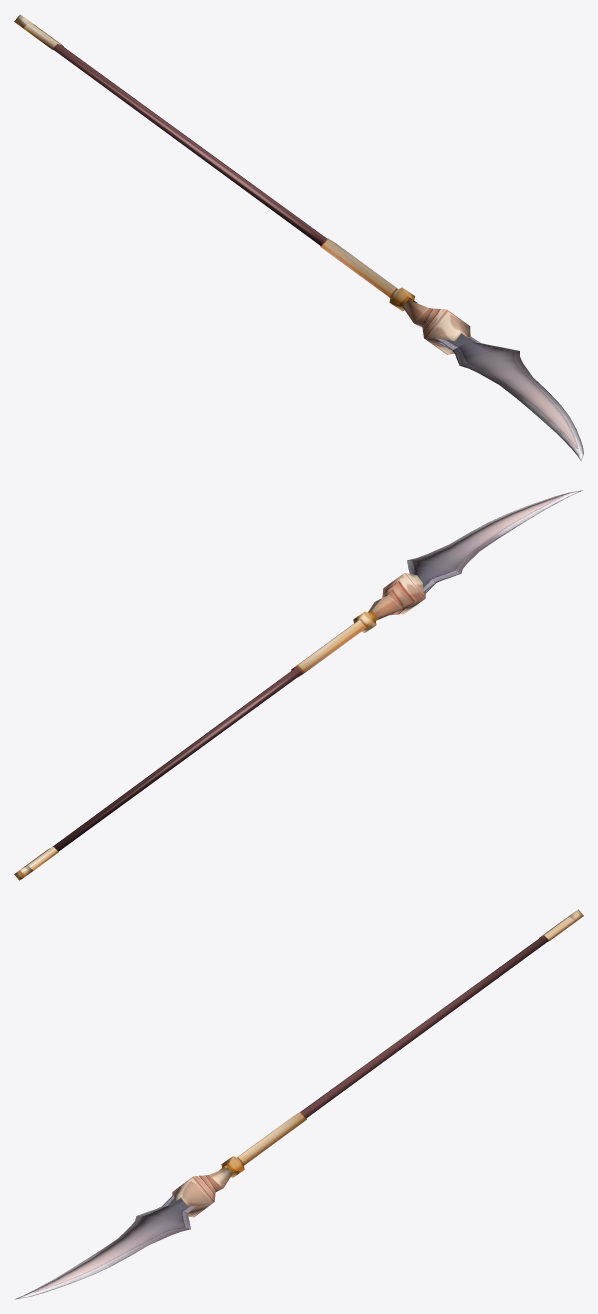
Rendered from lance0026.fbx.
3 views of the same model, one above another, from view 1: azimuth 30°, elevation 25°; view 2: azimuth 150°, elevation 25°; view 3: azimuth 330°, elevation 25° (orthographic). The views are drawn at different scales.
Parts seen in each view (by area): view 1: lance0026_m; view 2: lance0026_m; view 3: lance0026_m.
Part boxes in pixels (left/top/right/bottom): lance0026_m: left=14, top=14, right=583, bottom=460; lance0026_m: left=14, top=490, right=582, bottom=880; lance0026_m: left=15, top=909, right=583, bottom=1299.
Bounding box in the file's own units: 0.0969 × 0.0631 × 1.48.
